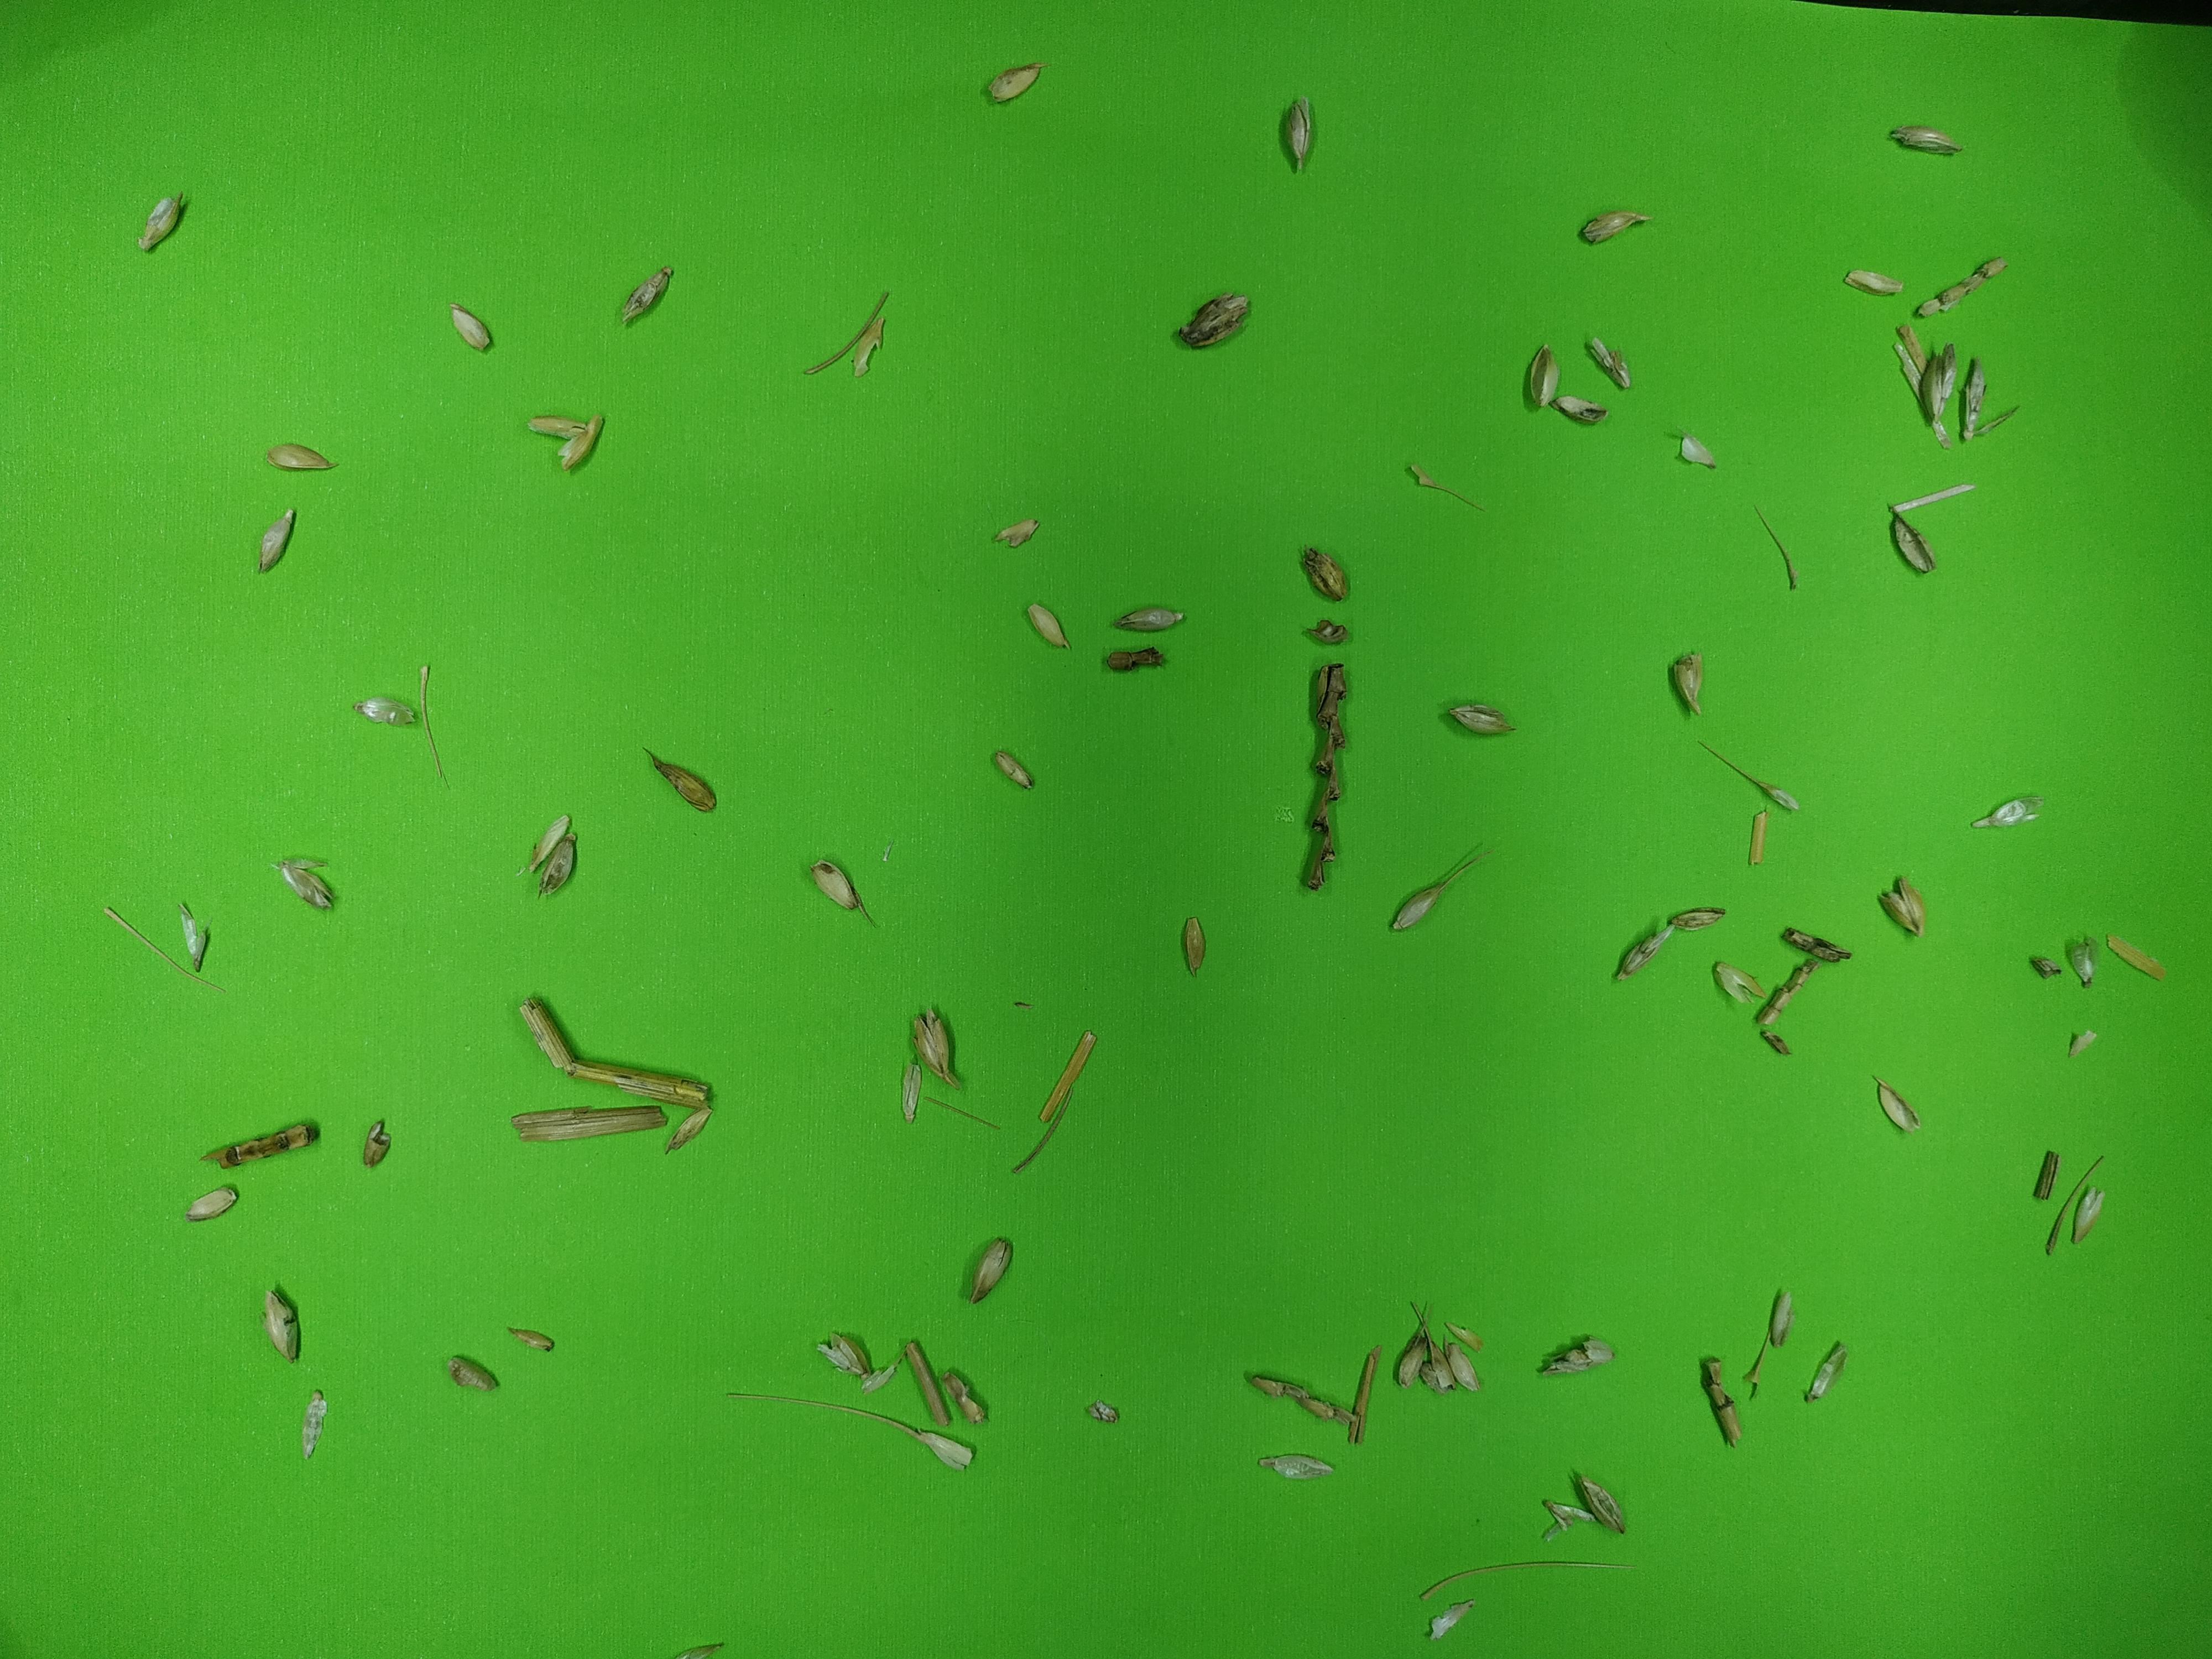impureza: (719, 1392, 981, 1478), (516, 988, 712, 1101), (1298, 657, 1350, 896), (1413, 1556, 1630, 1608), (105, 906, 226, 988), (1388, 845, 1493, 934), (507, 1098, 667, 1154), (801, 288, 892, 371), (1698, 739, 1799, 809), (202, 1117, 320, 1173), (634, 741, 719, 816), (2048, 1147, 2107, 1253), (409, 657, 456, 789), (1247, 1371, 1359, 1425), (1907, 254, 2012, 312), (523, 411, 617, 472), (1042, 1026, 1097, 1129), (1181, 282, 1261, 354), (1912, 338, 1966, 441), (806, 854, 881, 927), (1702, 1356, 1756, 1455), (254, 1277, 308, 1370), (1881, 497, 1942, 577), (610, 260, 679, 329), (907, 1004, 965, 1086), (1400, 460, 1484, 516), (1543, 1333, 1627, 1387), (1613, 917, 1683, 981), (1750, 500, 1797, 594), (907, 1337, 951, 1436), (805, 1330, 881, 1385), (273, 854, 340, 918), (1757, 955, 1817, 1026), (1959, 343, 2000, 448), (1392, 1335, 1454, 1401), (967, 1223, 1017, 1305), (2094, 924, 2167, 979), (131, 186, 190, 254), (1435, 694, 1514, 744), (1576, 202, 1660, 249), (1273, 87, 1317, 176), (1575, 1466, 1630, 1532), (982, 52, 1049, 108), (538, 824, 583, 904), (167, 892, 209, 976), (1775, 924, 1848, 971), (1876, 868, 1923, 941), (1298, 538, 1352, 601), (253, 505, 298, 579), (1010, 1107, 1064, 1168), (1258, 1445, 1339, 1485), (1353, 1340, 1383, 1450), (263, 437, 343, 477), (1534, 1499, 1597, 1549), (1806, 1338, 1851, 1408), (1707, 955, 1761, 1012), (1895, 474, 1982, 509), (944, 1361, 991, 1425), (347, 692, 428, 728), (1883, 118, 1959, 157), (2059, 920, 2099, 993), (1874, 1070, 1919, 1134), (1667, 650, 1709, 720), (1879, 322, 1921, 392), (1966, 791, 2054, 824), (1585, 329, 1632, 390), (446, 1354, 503, 1403), (1834, 265, 1907, 303), (925, 1094, 1000, 1131), (664, 1103, 719, 1152), (1109, 599, 1186, 634), (355, 1117, 408, 1168), (446, 298, 495, 352), (1097, 643, 1172, 678), (294, 1382, 327, 1460), (848, 315, 887, 382), (188, 1180, 239, 1229), (1524, 342, 1559, 411), (1428, 1596, 1477, 1645), (1669, 422, 1717, 469), (895, 1054, 927, 1127), (2017, 941, 2071, 983), (1444, 1345, 1486, 1398), (1552, 396, 1615, 429), (2027, 1145, 2060, 1208), (1676, 897, 1735, 932), (2071, 1183, 2104, 1244), (1179, 913, 1209, 981), (1026, 601, 1064, 647), (1764, 1295, 1796, 1347), (988, 753, 1036, 786), (1437, 1316, 1482, 1351), (1745, 810, 1775, 863), (1308, 615, 1350, 650), (1082, 1391, 1120, 1427), (1747, 1026, 1794, 1056), (995, 518, 1040, 547), (512, 1328, 554, 1354), (2062, 1026, 2097, 1058)
